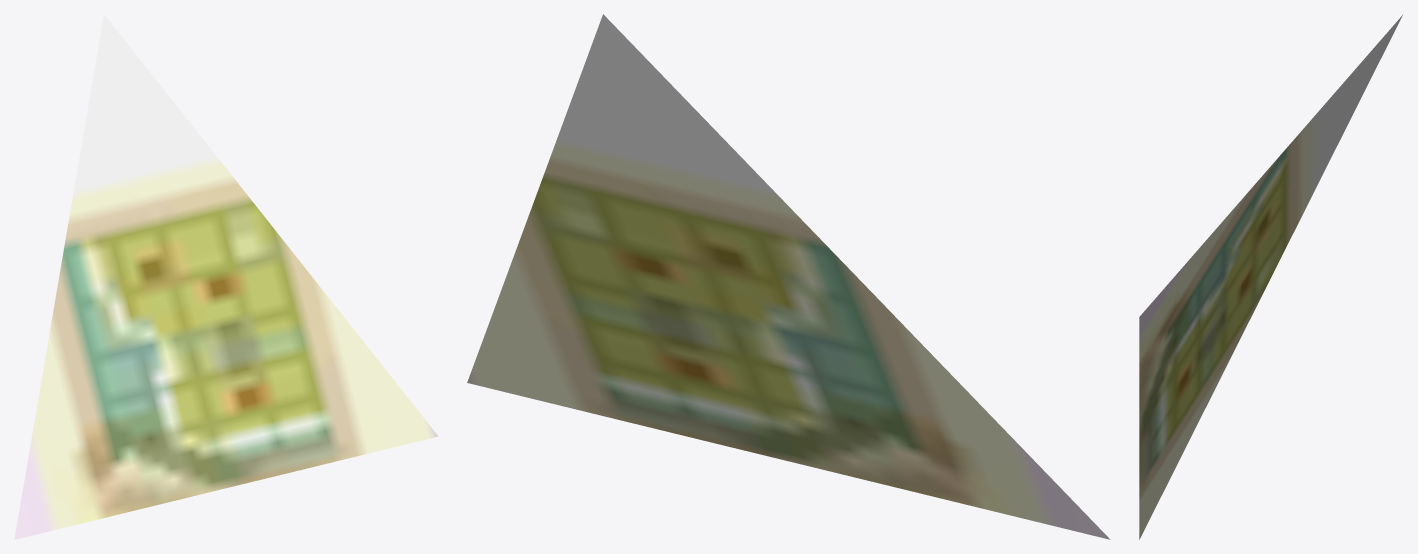
File: setting_t_outside_2.dae
3 renders of one model, left to right at view 1: azimuth 30°, elevation 25°; view 2: azimuth 150°, elevation 25°; view 3: azimuth 270°, elevation 25°, orthographic. The views are drawn at different scales.
Visible parts, largest first — view 1: setting_t_outside_2; view 2: setting_t_outside_2; view 3: setting_t_outside_2.
Boxes of the visible parts, x1,y1,x2,y2 form: setting_t_outside_2: [14, 14, 438, 539]; setting_t_outside_2: [467, 14, 1110, 539]; setting_t_outside_2: [1139, 15, 1402, 539].
Size of the model in its own units: 15.5 by 13.42 by 7.75.
1 material, 1 textured.
